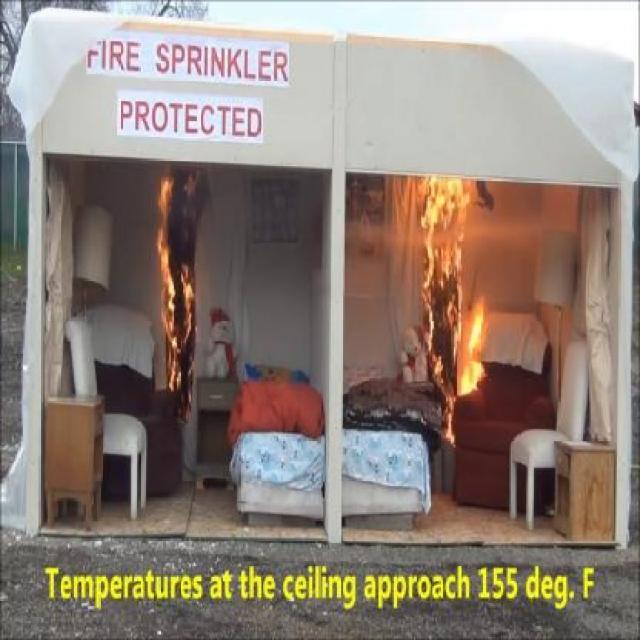fire: (417, 140, 491, 406), (146, 158, 212, 364)
